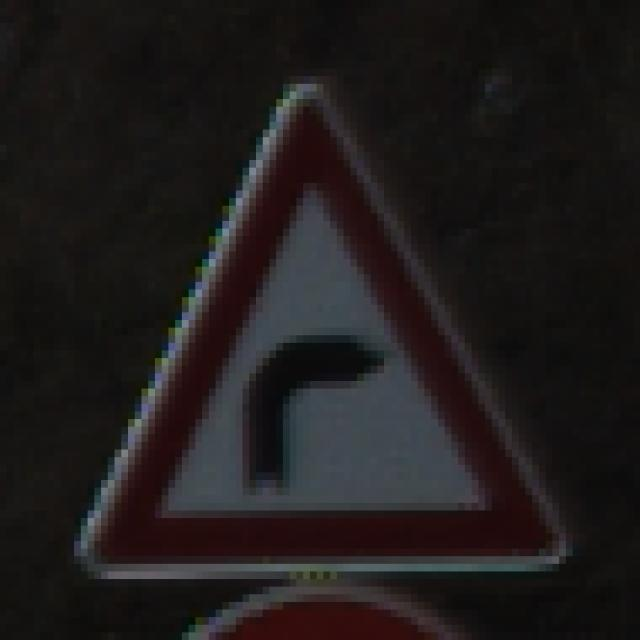right hand curve: (58, 72, 586, 605)
